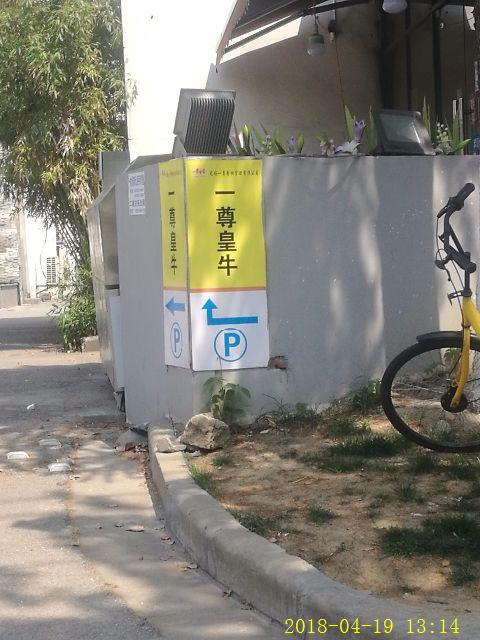multi_signs: (183, 153, 272, 367), (157, 156, 192, 369)
non_traffic_sign: (185, 151, 272, 368), (156, 153, 192, 370)
